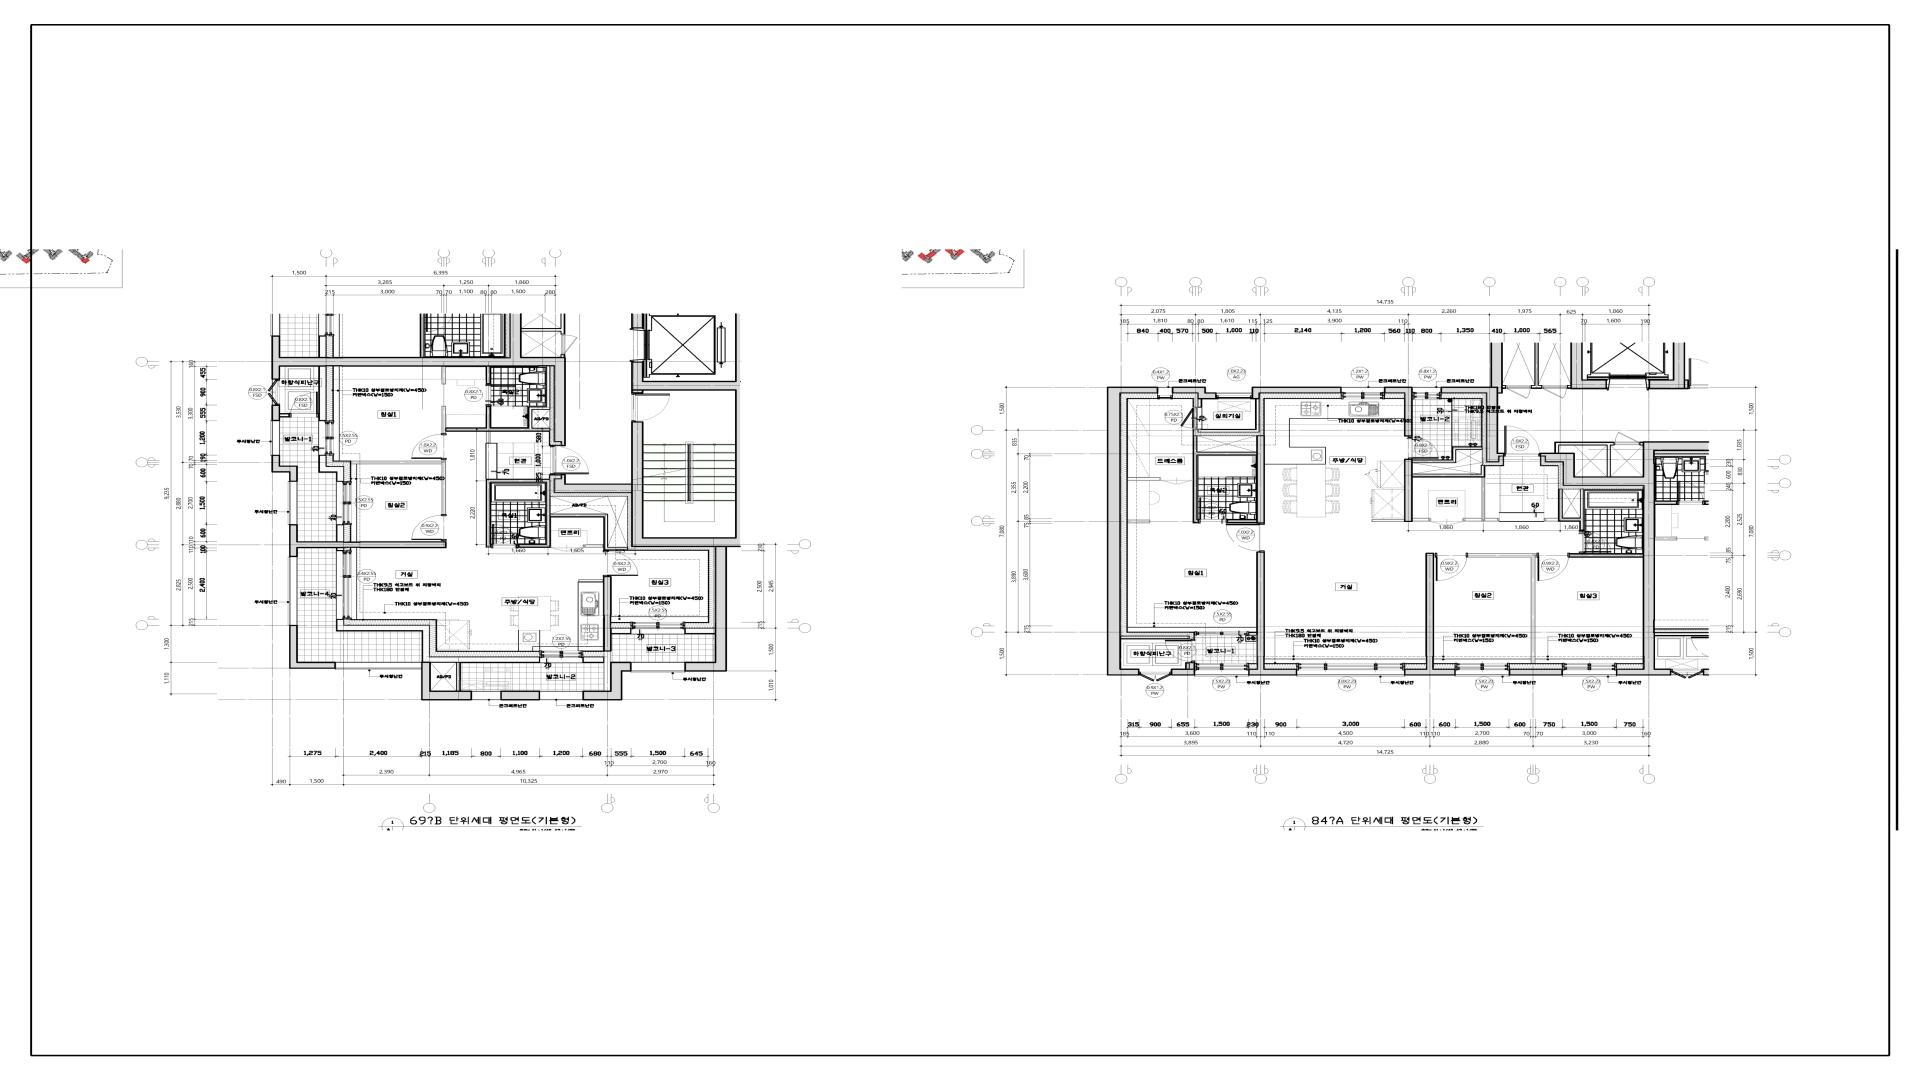door: (550, 446, 589, 475), (1505, 425, 1540, 456), (632, 393, 671, 421), (1225, 524, 1265, 551), (410, 514, 447, 541), (410, 434, 447, 460), (1536, 553, 1569, 582), (1435, 553, 1468, 582), (603, 551, 638, 576), (1578, 530, 1613, 553), (1199, 497, 1228, 524), (290, 392, 318, 418), (1408, 436, 1440, 459), (1164, 640, 1195, 662), (485, 385, 517, 406), (492, 524, 518, 549), (1180, 407, 1197, 429), (1431, 518, 1462, 526), (1160, 477, 1192, 485), (551, 545, 583, 551)
wall: (554, 421, 727, 671), (1540, 440, 1709, 675), (272, 357, 566, 446), (1106, 386, 1158, 675), (336, 620, 539, 691), (485, 479, 628, 551), (1371, 446, 1499, 522), (442, 367, 551, 443), (1441, 343, 1505, 463), (1468, 554, 1536, 663), (1192, 435, 1265, 524), (1406, 553, 1455, 675), (1249, 551, 1296, 675), (583, 576, 630, 691), (351, 460, 446, 514), (289, 525, 447, 556), (1197, 400, 1261, 433), (289, 625, 335, 669), (422, 663, 472, 700), (583, 662, 630, 700), (1571, 343, 1607, 389), (1650, 343, 1685, 389), (1544, 489, 1584, 530), (1385, 386, 1412, 436), (1251, 386, 1341, 400), (272, 455, 298, 481), (318, 455, 344, 481), (1172, 386, 1216, 400), (318, 367, 327, 421), (1569, 553, 1643, 558), (500, 691, 539, 700), (1510, 669, 1563, 675), (1121, 636, 1189, 640), (686, 628, 715, 634), (1171, 669, 1195, 675), (336, 525, 344, 542), (1127, 477, 1160, 481), (272, 405, 280, 421), (485, 367, 491, 384), (1127, 520, 1150, 524), (442, 367, 446, 385), (280, 413, 290, 418), (1197, 400, 1203, 407), (1249, 632, 1257, 636), (1185, 662, 1189, 669), (336, 549, 344, 551)
window: (1296, 663, 1406, 676), (336, 551, 352, 620), (630, 621, 686, 634), (1455, 663, 1510, 676), (287, 556, 298, 625), (1195, 663, 1249, 676), (1563, 663, 1617, 676), (336, 481, 352, 525), (335, 662, 421, 670), (630, 662, 686, 673), (539, 650, 583, 663), (1341, 386, 1385, 400), (318, 421, 334, 455), (287, 481, 298, 525), (1139, 669, 1171, 682), (539, 691, 583, 700), (1412, 386, 1441, 400), (270, 421, 280, 455), (268, 380, 280, 405), (472, 691, 500, 700), (1216, 393, 1251, 400), (1195, 632, 1249, 636), (1158, 386, 1172, 400)
